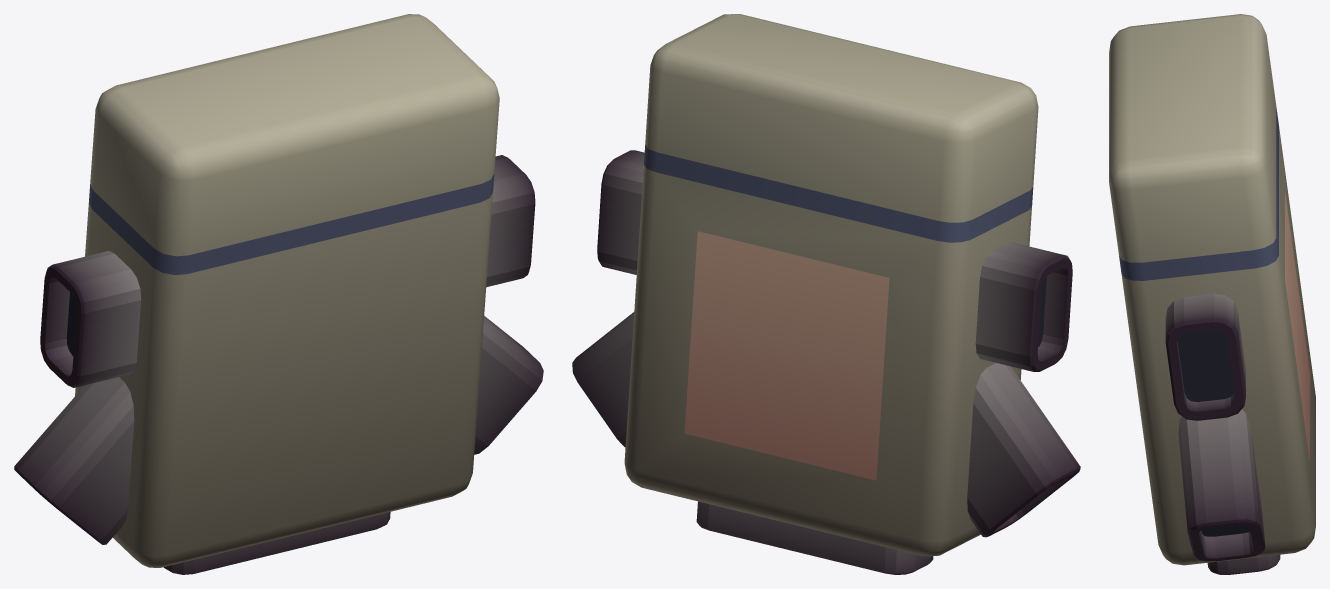
File: SibJamJetPack.fbx
3 renders of one model, left to right at view 1: azimuth 30°, elevation 25°; view 2: azimuth 150°, elevation 25°; view 3: azimuth 270°, elevation 25°, orthographic. The views are drawn at different scales.
Visible parts, largest first — view 1: Cube.002; view 2: Cube.002; view 3: Cube.002.
Boxes of the visible parts, x1,y1,x2,y2 form: Cube.002: (14,14,543,574); Cube.002: (572,14,1080,574); Cube.002: (1109,14,1315,574).
Bounding box in the file's own units: 89.4 × 82.29 × 34.54.
